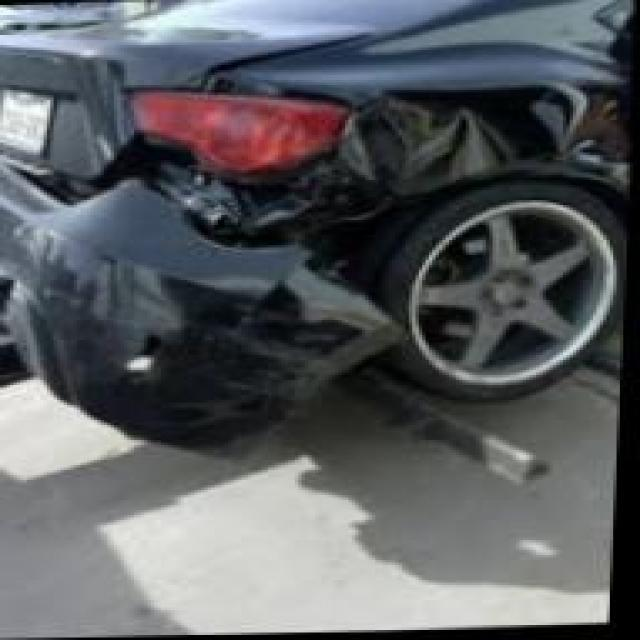replaceable: (149, 46, 637, 179), (95, 180, 391, 366)
